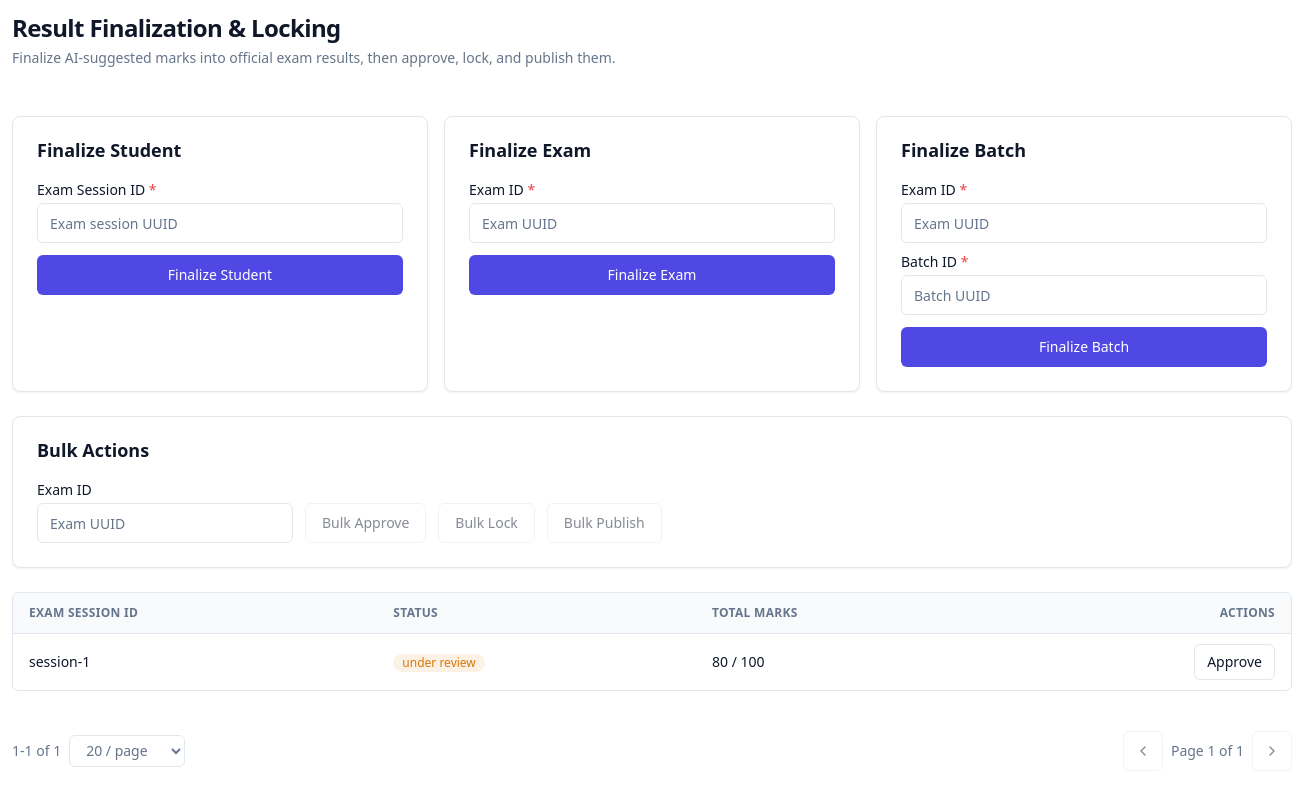
Test: ResultFinalizationPage › bulk approves exam results and shows a toast with succeeded/failed counts
Expected: the heading "Bulk Actions" is shown, [37,438,149,462]
Type "exam-1" into the field labelled "Exam ID".
click(165, 523); type("exam-1")  # box [37,503,293,543]
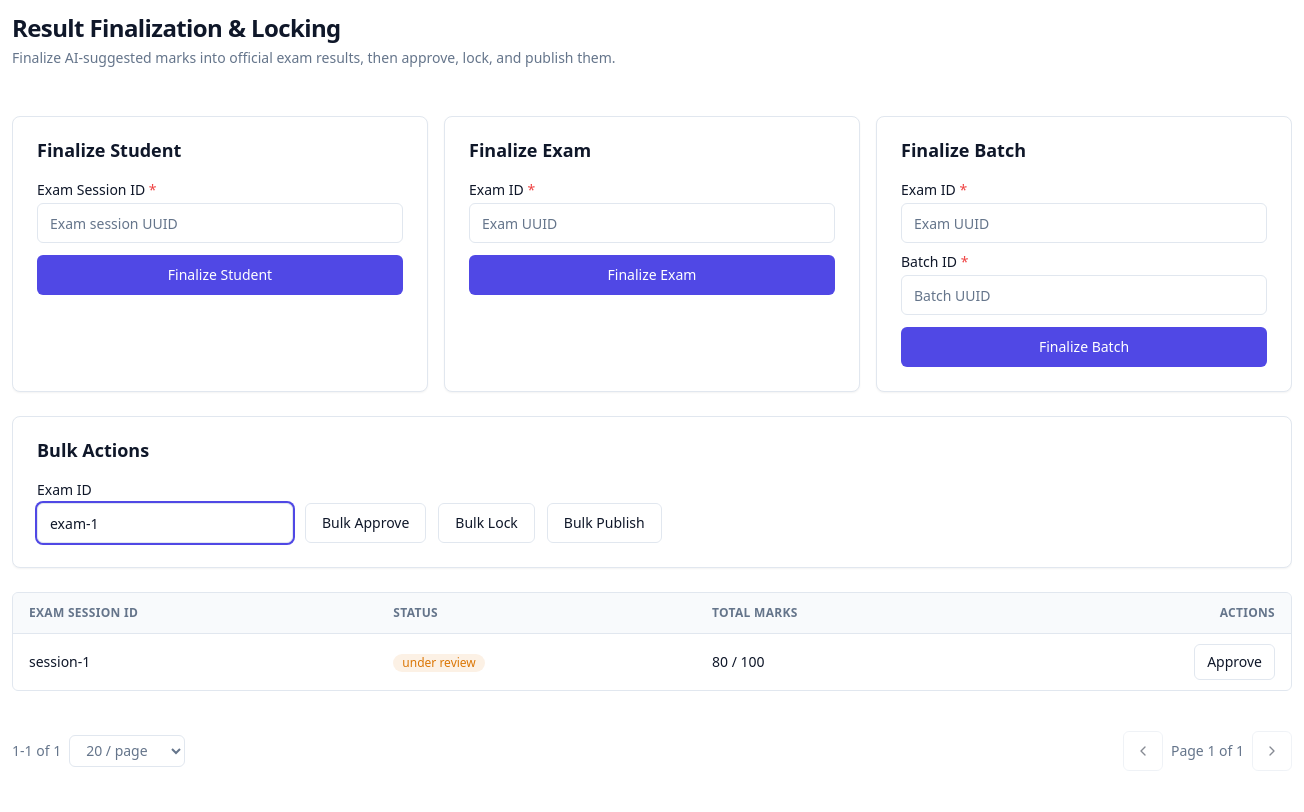
Click the button "Bulk Approve".
click(366, 523)  # box [305,503,426,543]
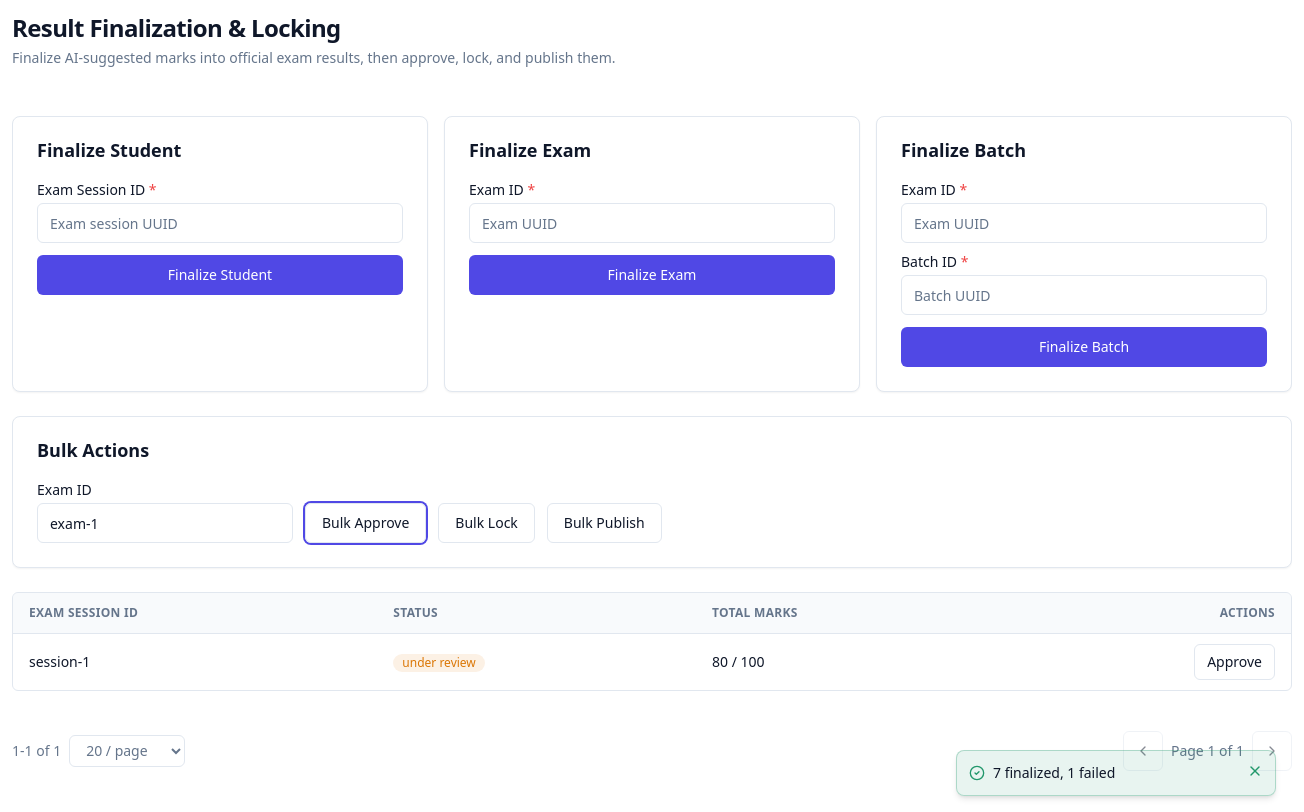
Expected: the text "7 finalized, 1 failed" is shown, [993,763,1115,782]
